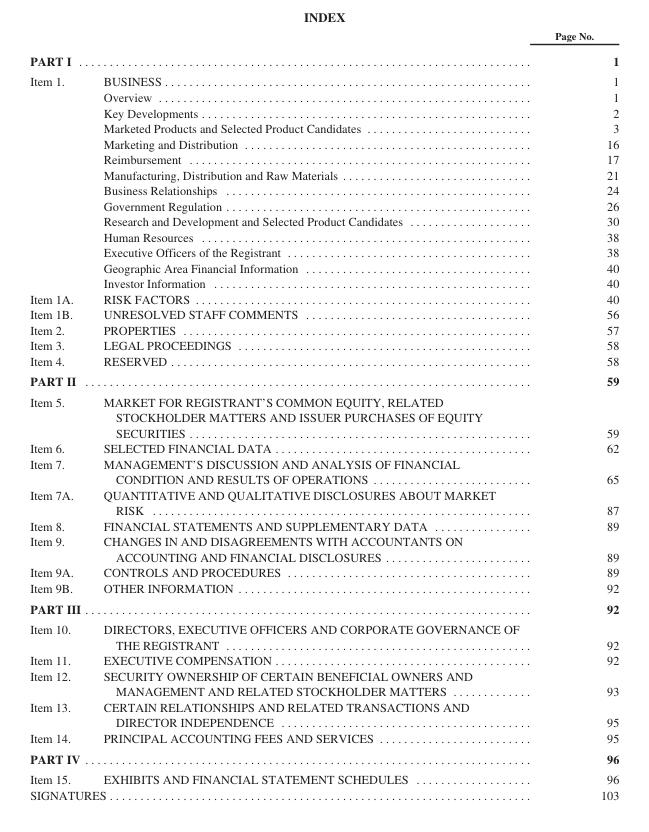table: (29, 29, 618, 801)
table column: (87, 29, 536, 801), (536, 29, 618, 801), (29, 29, 87, 801)
table column header: (29, 29, 618, 47)
table row: (29, 391, 618, 440), (29, 618, 618, 652), (29, 456, 618, 487), (29, 487, 618, 518), (29, 533, 618, 564), (29, 667, 618, 698), (29, 698, 618, 729), (29, 47, 618, 70), (29, 370, 618, 391), (29, 597, 618, 618), (29, 747, 618, 768), (29, 70, 618, 89), (29, 29, 618, 47), (29, 352, 618, 370), (29, 729, 618, 747), (29, 768, 618, 786), (29, 580, 618, 597), (29, 104, 618, 120), (29, 135, 618, 151), (29, 166, 618, 182), (29, 197, 618, 213), (29, 228, 618, 244), (29, 259, 618, 275), (29, 290, 618, 306), (29, 321, 618, 337), (29, 440, 618, 456), (29, 564, 618, 580), (29, 89, 618, 104), (29, 120, 618, 135), (29, 151, 618, 166), (29, 182, 618, 197), (29, 213, 618, 228), (29, 244, 618, 259), (29, 275, 618, 290), (29, 306, 618, 321), (29, 337, 618, 352), (29, 518, 618, 533), (29, 652, 618, 667), (29, 786, 618, 801)
table spanning cell: (29, 70, 87, 290), (29, 47, 536, 70), (29, 370, 536, 391), (29, 597, 536, 618), (29, 747, 536, 768), (29, 786, 536, 801)
